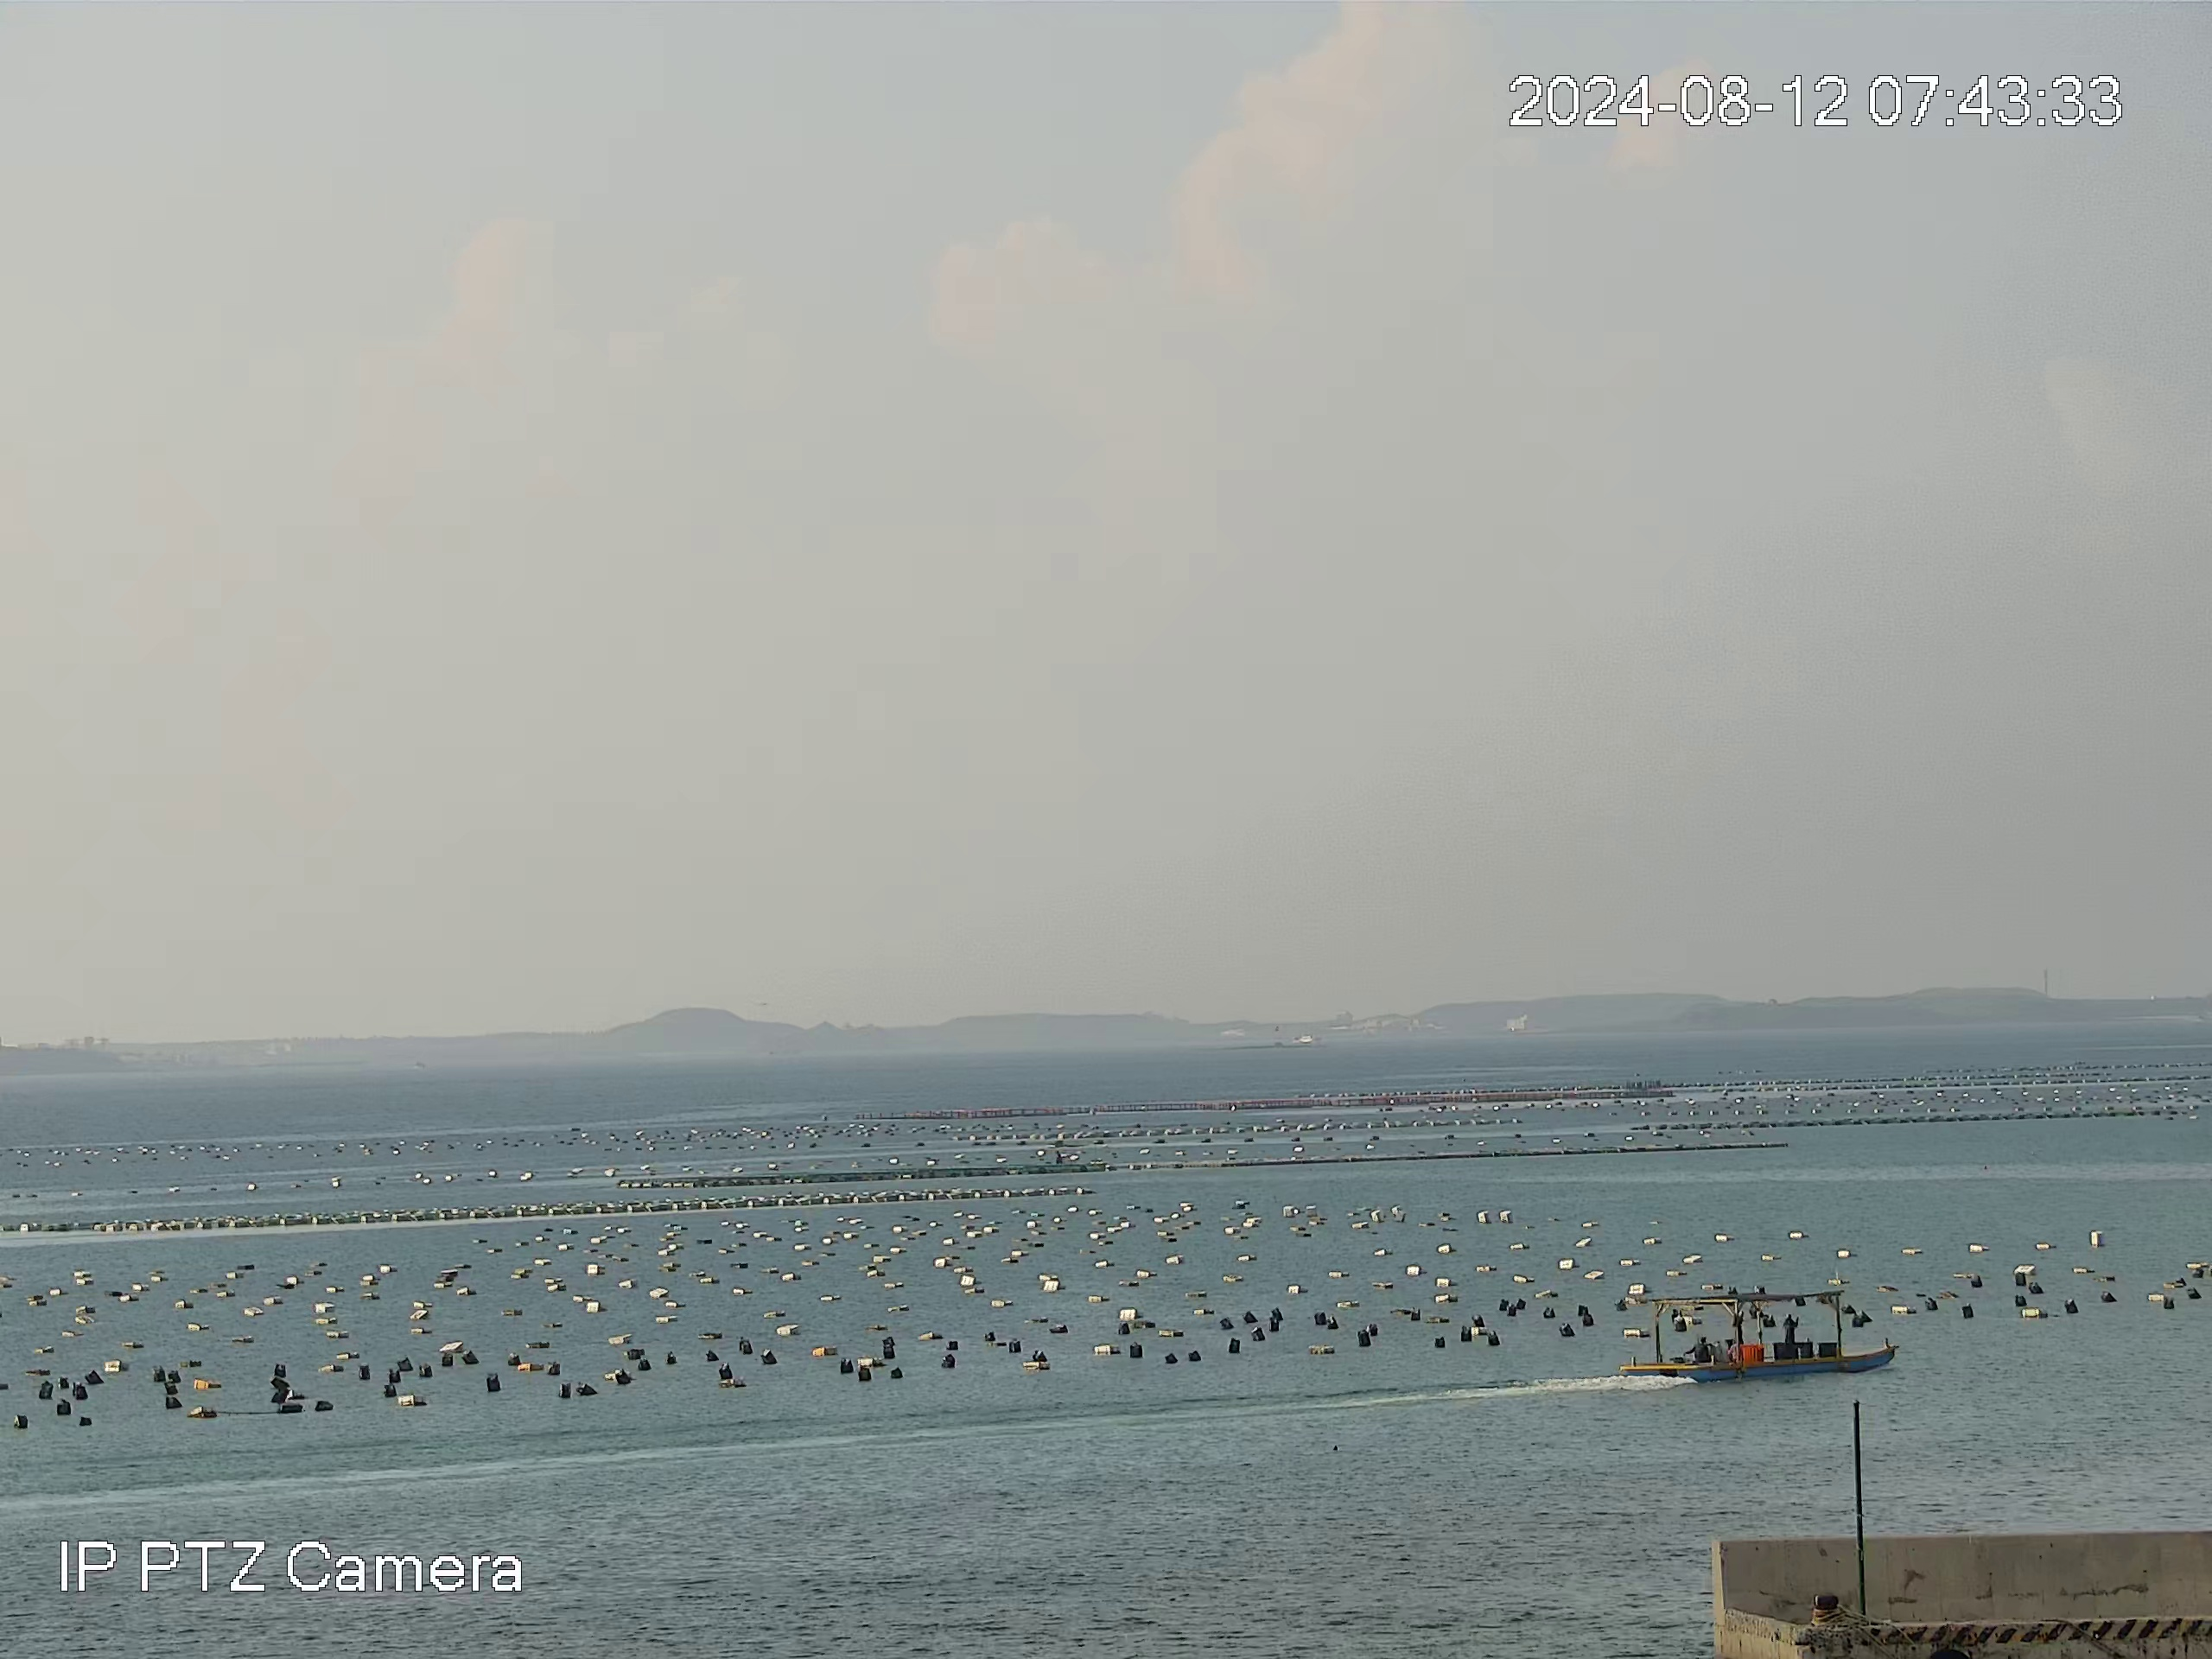boat: (1609, 1290, 1909, 1384)
